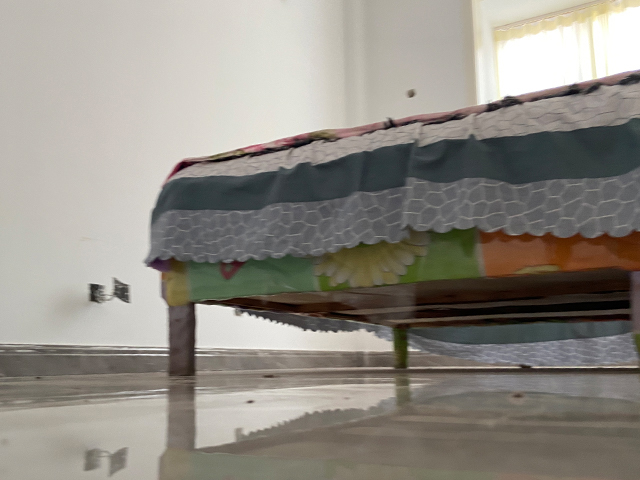bed: (142, 69, 640, 378)
